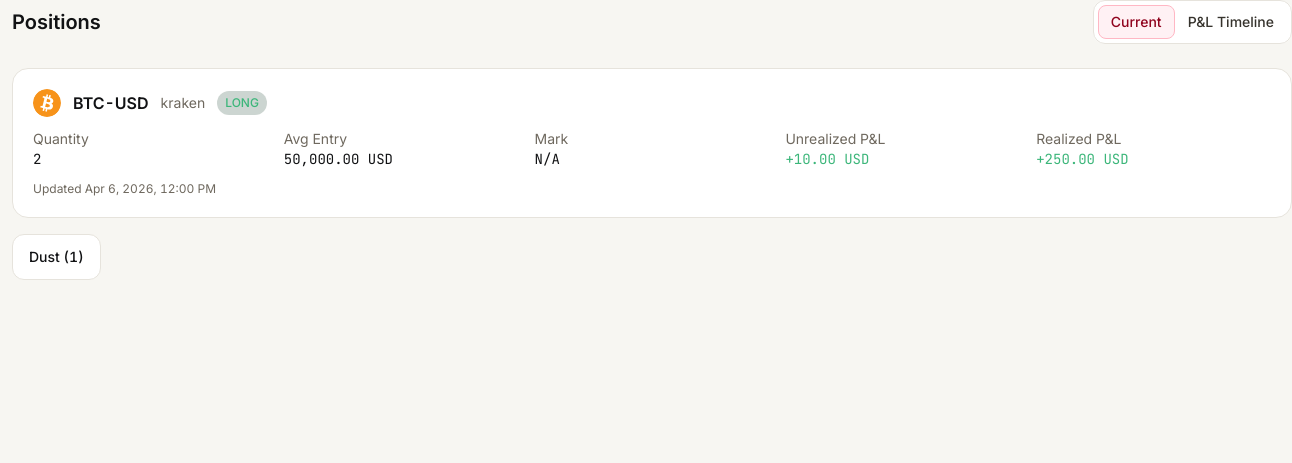
Scenario: Positions › keeps dust collapsed until the operator expands it
Check: the text "LONG" is shown, box [217,91,267,115]
Check: the text "0.00000001" is not shown
Click the button with test id "dust-toggle" at point(56, 257), box [12,234,101,280]
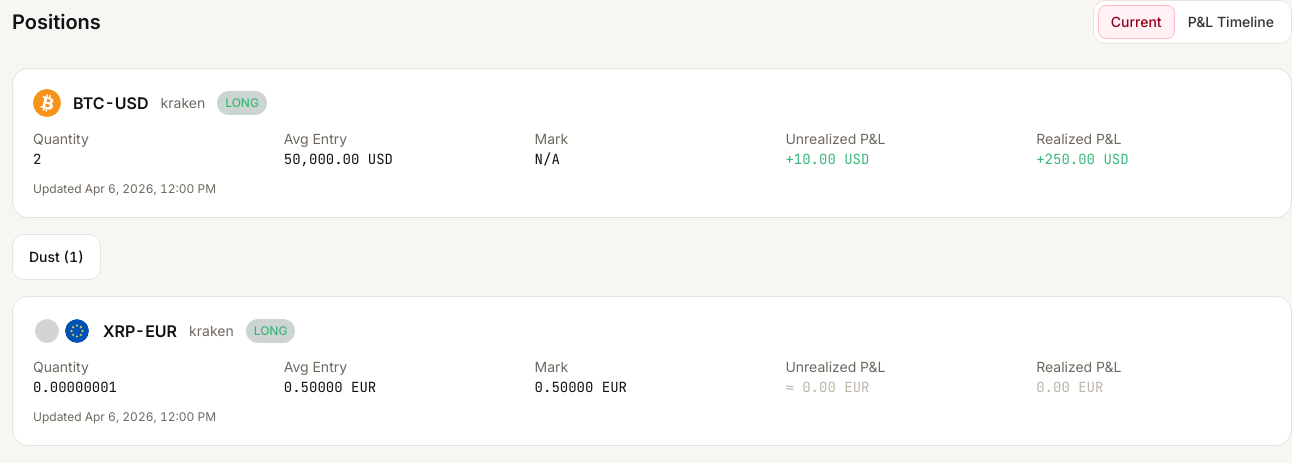
Check: the text "0.00000001" is shown, box [33,378,117,396]
Check: the element with test id "position-unrealized-XRP-EUR-kraken-live" reads "≈ 0.00 EUR", box [785,378,869,396]
Click the button with test id "dust-toggle" at point(56, 257), box [12,234,101,280]
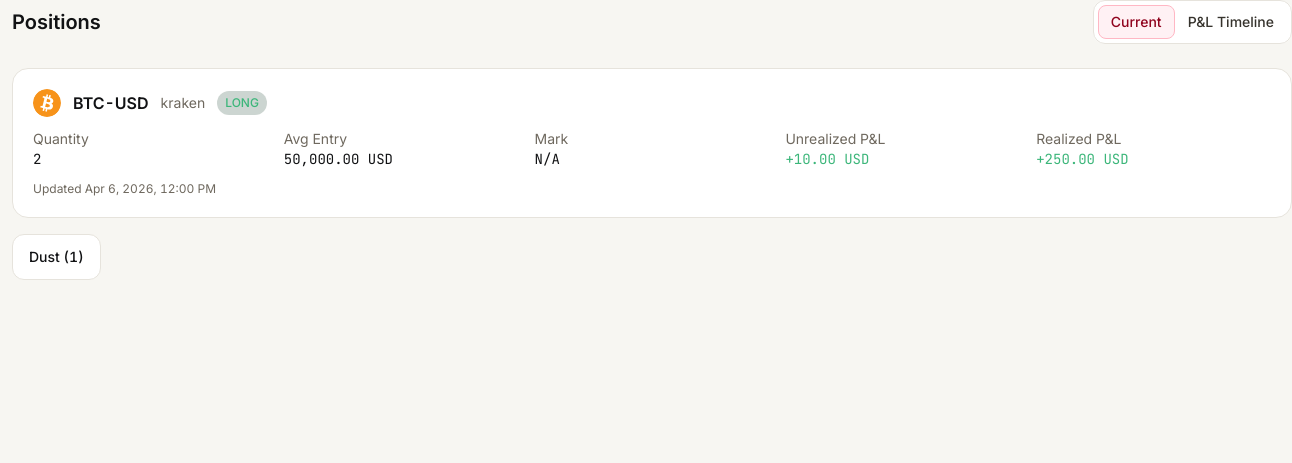
Check: the text "0.00000001" is gone
